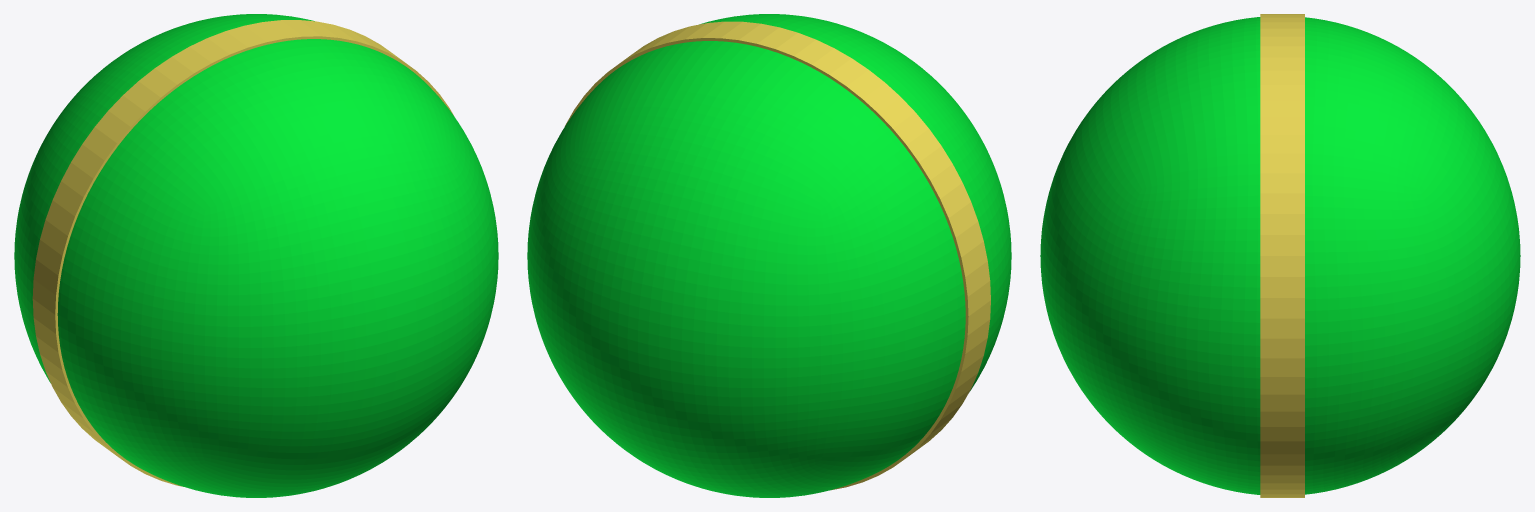
The model's file is Planet.fbx.
3 views of the same model, side by side, from view 1: azimuth 30°, elevation 25°; view 2: azimuth 150°, elevation 25°; view 3: azimuth 270°, elevation 25° (orthographic).
Visible parts, largest first — view 1: Planet, Road; view 2: Planet, Road; view 3: Planet, Road.
Boxes of the visible parts, x1,y1,x2,y2 form: Planet: (14,14,498,497); Road: (32,20,453,486); Planet: (527,14,1011,497); Road: (565,21,990,490); Planet: (1040,17,1520,494); Road: (1260,14,1304,497).
Bounding box in the file's own units: 856 × 856 × 849.
